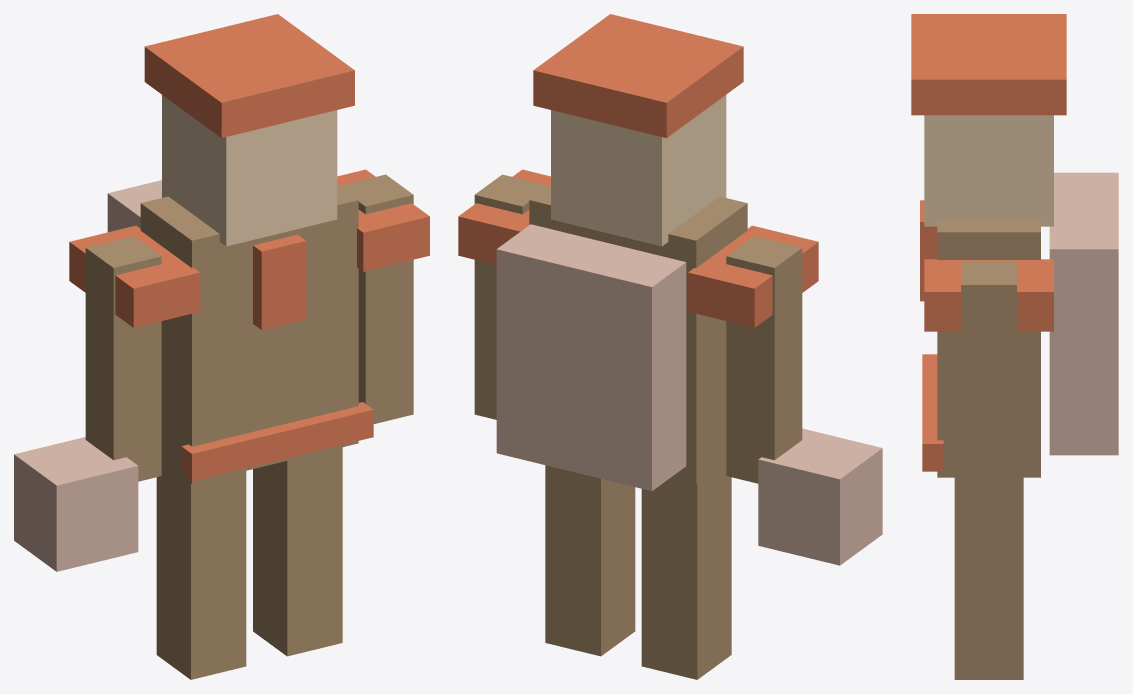
Rendered from 07_draven_cragwarden_fixer_near_lexicon.glb.
3 renders of one model, left to right at view 1: azimuth 30°, elevation 25°; view 2: azimuth 150°, elevation 25°; view 3: azimuth 270°, elevation 25°, orthographic.
Visible parts, largest first — view 1: Draven Cragwarden, Fixer near Lexicon; view 2: Draven Cragwarden, Fixer near Lexicon; view 3: Draven Cragwarden, Fixer near Lexicon.
Boxes of the visible parts, x1,y1,x2,y2 form: Draven Cragwarden, Fixer near Lexicon: (14,14,429,679); Draven Cragwarden, Fixer near Lexicon: (458,14,882,679); Draven Cragwarden, Fixer near Lexicon: (911,14,1118,679).
Bounding box in the file's own units: 1.06 × 1.62 × 0.5118.
